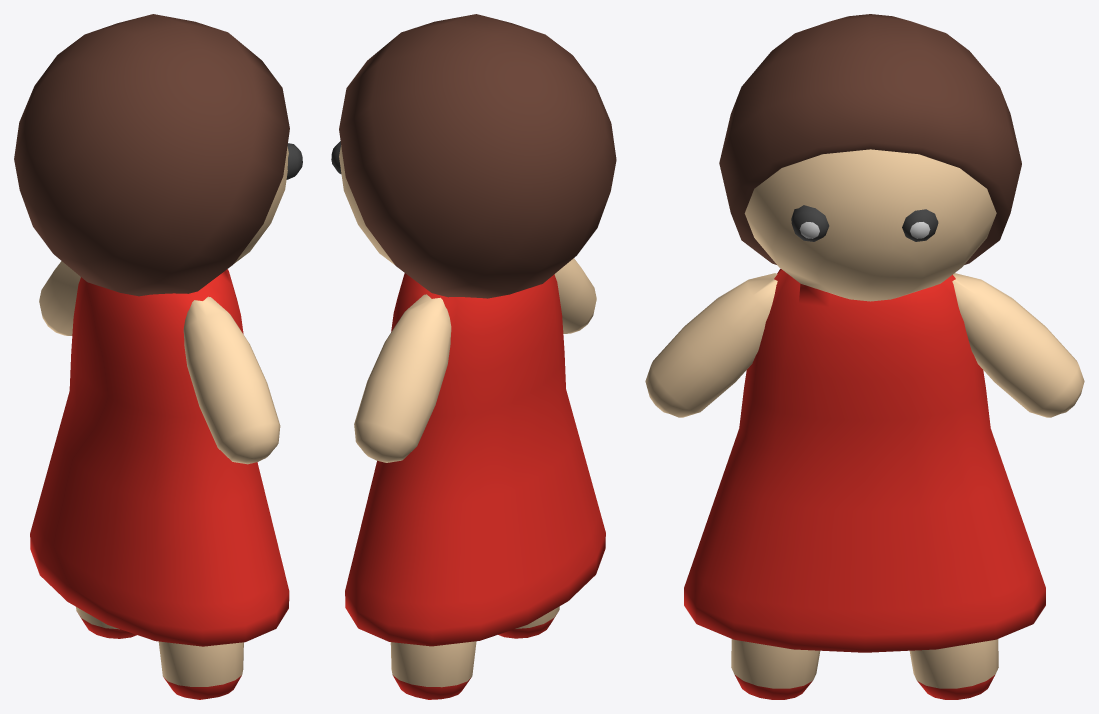
File: Doll1.fbx
The picture shows the model from 3 angles, left to right: view 1: azimuth 30°, elevation 25°; view 2: azimuth 150°, elevation 25°; view 3: azimuth 270°, elevation 25°; orthographic projection. The views are drawn at different scales.
Visible parts, largest first — view 1: Doll1; view 2: Doll1; view 3: Doll1.
Part boxes in pixels (left/top/right/bottom): Doll1: left=14, top=14, right=302, bottom=699; Doll1: left=331, top=14, right=616, bottom=699; Doll1: left=645, top=14, right=1084, bottom=699.
Size of the model in its own units: 24.72 by 62.83 by 37.55.
